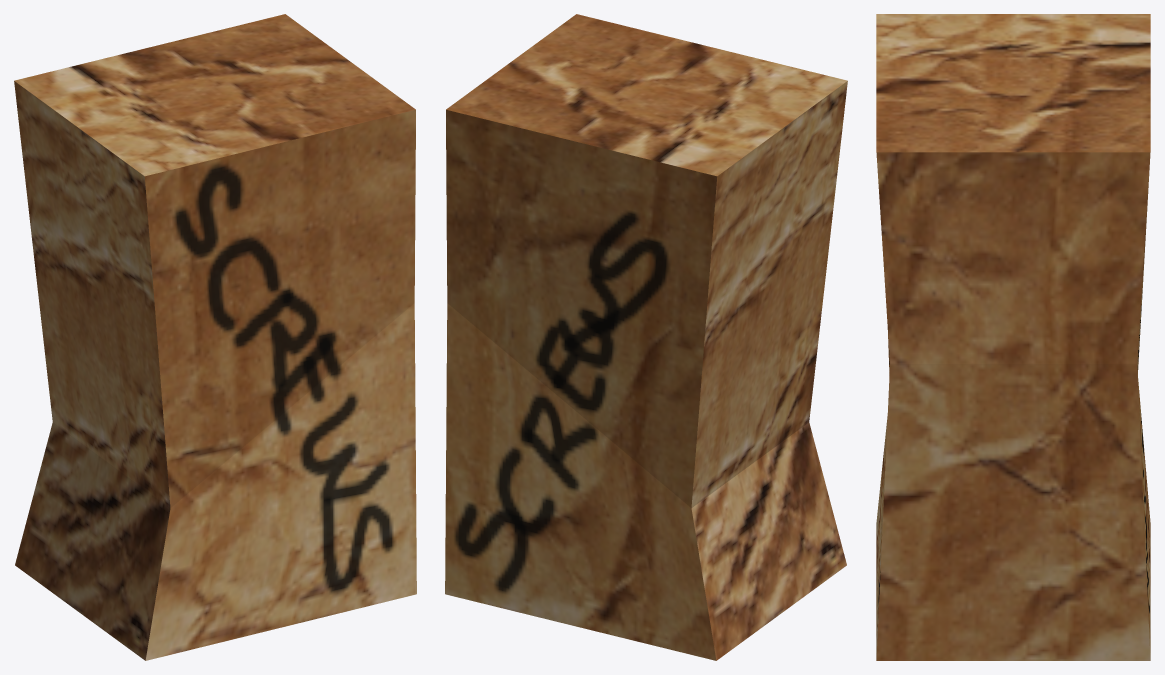
Rendered from screws-box.fbx.
3 renders of one model, left to right at view 1: azimuth 30°, elevation 25°; view 2: azimuth 150°, elevation 25°; view 3: azimuth 270°, elevation 25°, orthographic. The views are drawn at different scales.
Visible parts, largest first — view 1: Screws; view 2: Screws; view 3: Screws.
Boxes of the visible parts, x1,y1,x2,y2 form: Screws: [14, 14, 416, 660]; Screws: [445, 14, 847, 660]; Screws: [876, 14, 1150, 660].
Bounding box in the file's own units: 8.64 × 14.5 × 7.08.
